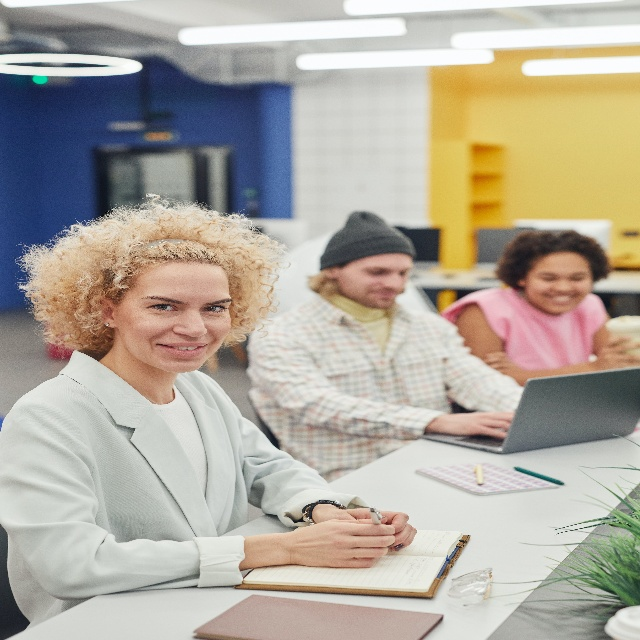Gafas: (448, 565, 492, 608)
Sin_guantes: (289, 516, 395, 568), (316, 507, 417, 552), (443, 412, 514, 439), (597, 337, 640, 372), (483, 351, 515, 378)
